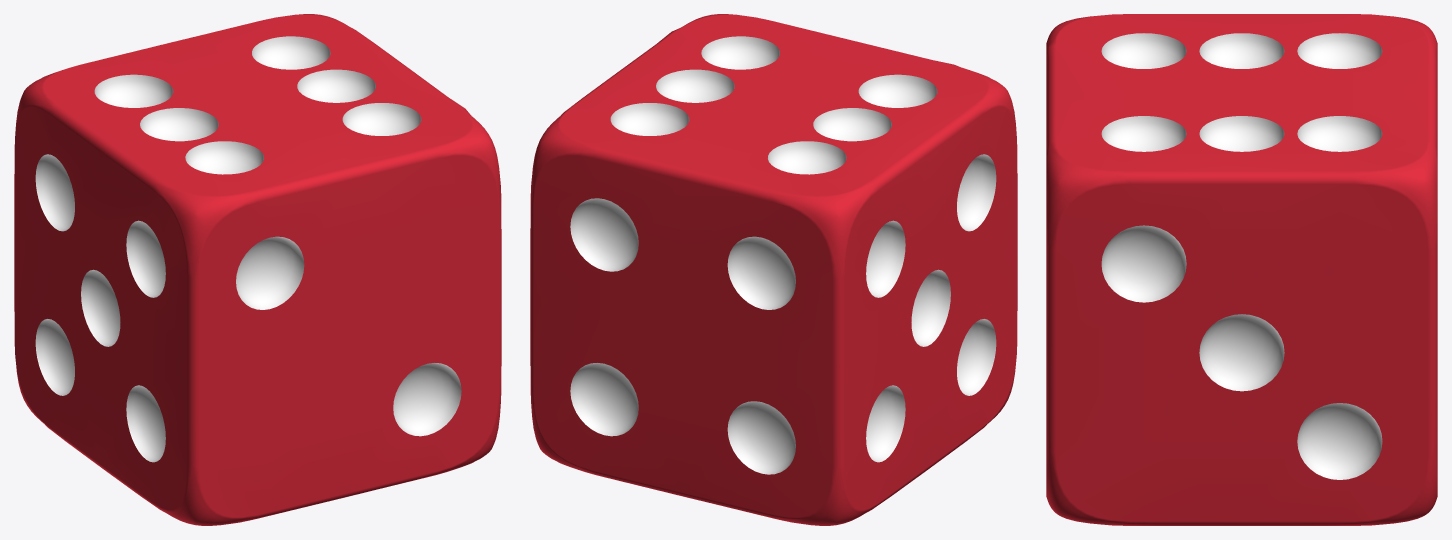
Rendered from dice.glb.
3 renders of one model, left to right at view 1: azimuth 30°, elevation 25°; view 2: azimuth 150°, elevation 25°; view 3: azimuth 270°, elevation 25°, orthographic. The views are drawn at different scales.
Visible parts, largest first — view 1: body, pips; view 2: body, pips; view 3: body, pips.
Boxes of the visible parts, left/top/right/bottom form: body: left=14, top=14, right=501, bottom=525; pips: left=35, top=36, right=461, bottom=462; body: left=530, top=14, right=1017, bottom=525; pips: left=570, top=36, right=996, bottom=474; body: left=1046, top=14, right=1437, bottom=525; pips: left=1101, top=33, right=1382, bottom=479.
Bounding box in the file's own units: 2 × 2 × 2.
